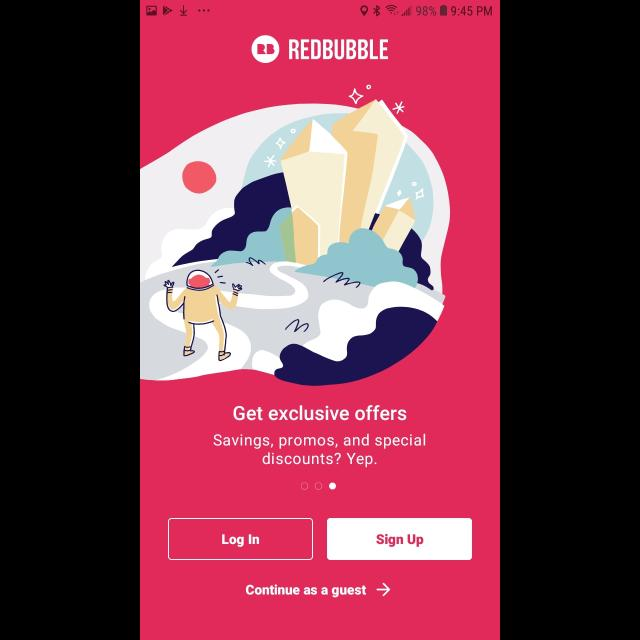icon: (376, 583, 390, 597)
image: (141, 85, 451, 387), (252, 36, 280, 64)
pageindicator: (301, 482, 337, 490)
text: (214, 432, 426, 468), (233, 405, 407, 421), (288, 40, 388, 60), (246, 584, 366, 598)
textbutton: (168, 518, 314, 560), (328, 518, 472, 560)
uppertaskbar: (140, 1, 500, 18)
